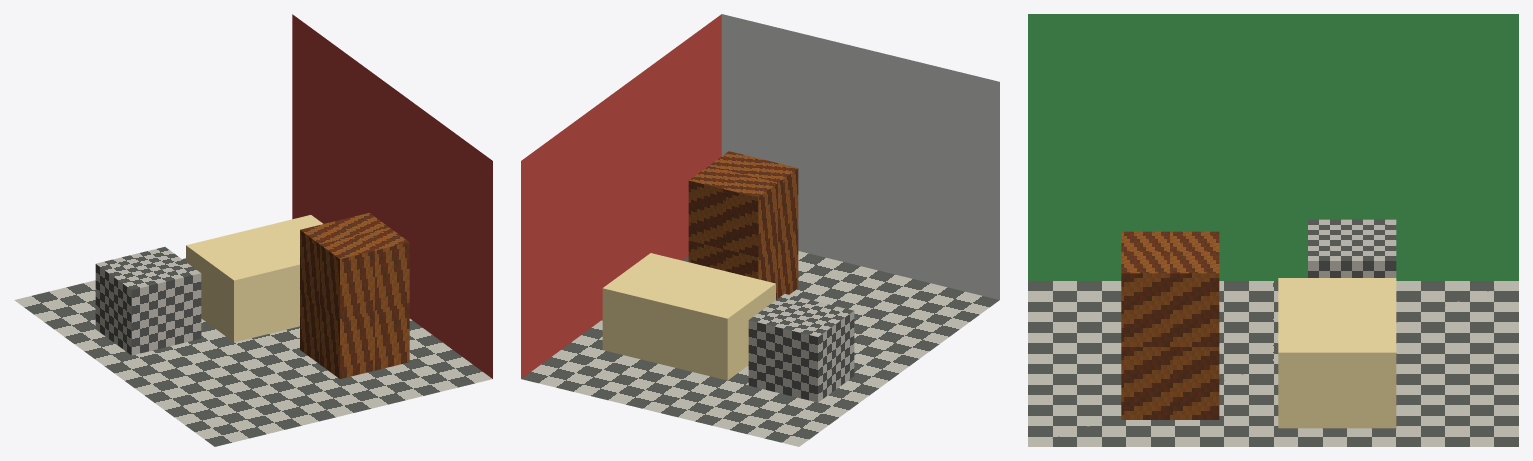
The model's file is cornell-box.gltf.
3 views of the same model, side by side, from view 1: azimuth 30°, elevation 25°; view 2: azimuth 150°, elevation 25°; view 3: azimuth 270°, elevation 25° (orthographic). The views are drawn at different scales.
Visible parts, largest first — view 1: Textured Cornell Box; view 2: Textured Cornell Box; view 3: Textured Cornell Box.
Part boxes in pixels (x1,y1,x2,y2): Textured Cornell Box: [14, 14, 492, 446]; Textured Cornell Box: [521, 14, 999, 446]; Textured Cornell Box: [1028, 14, 1518, 446].
Bounding box in the file's own units: 4 × 3 × 5.
8 materials, 3 textured.
